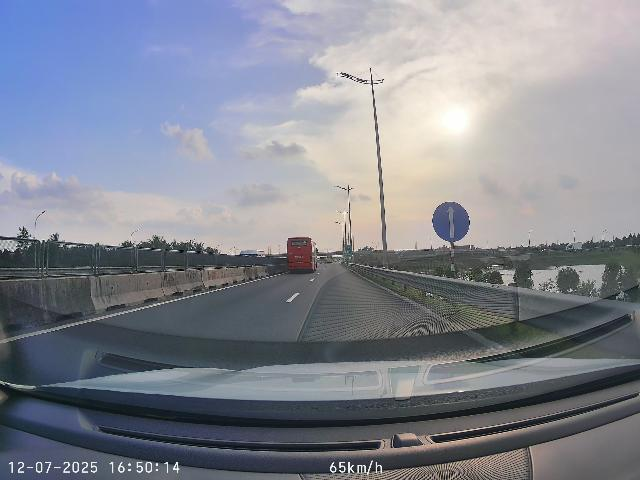301a-cac-xe-chi-duoc-di-thang: (432, 201, 470, 242)
